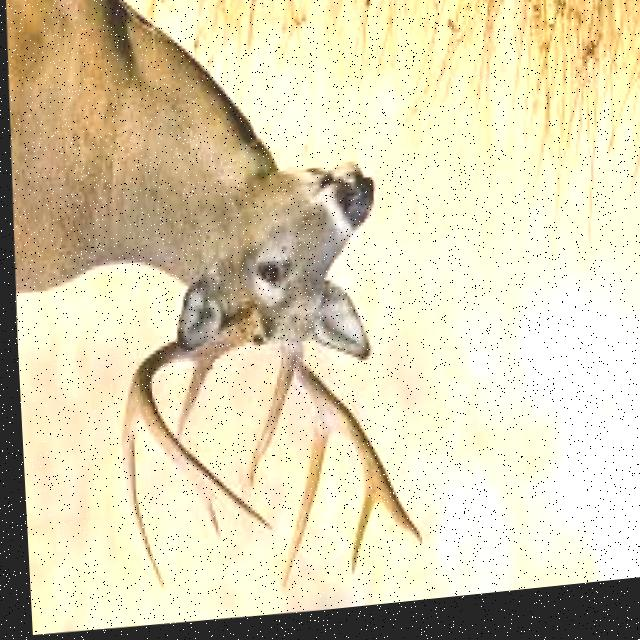E1: (190, 490, 217, 542)
L-F: (275, 345, 416, 555)
L-G1: (242, 362, 290, 495)
L-G2: (273, 419, 328, 595)
L-G3: (344, 485, 375, 583)
R-F: (124, 305, 269, 536)
R-G1: (171, 362, 212, 435)
R-G2: (116, 392, 160, 597)
